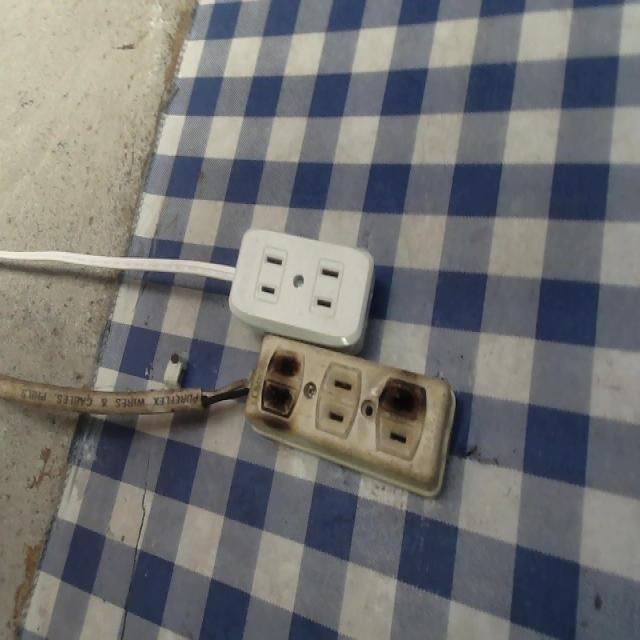-: (253, 341, 306, 424), (376, 369, 429, 427)
